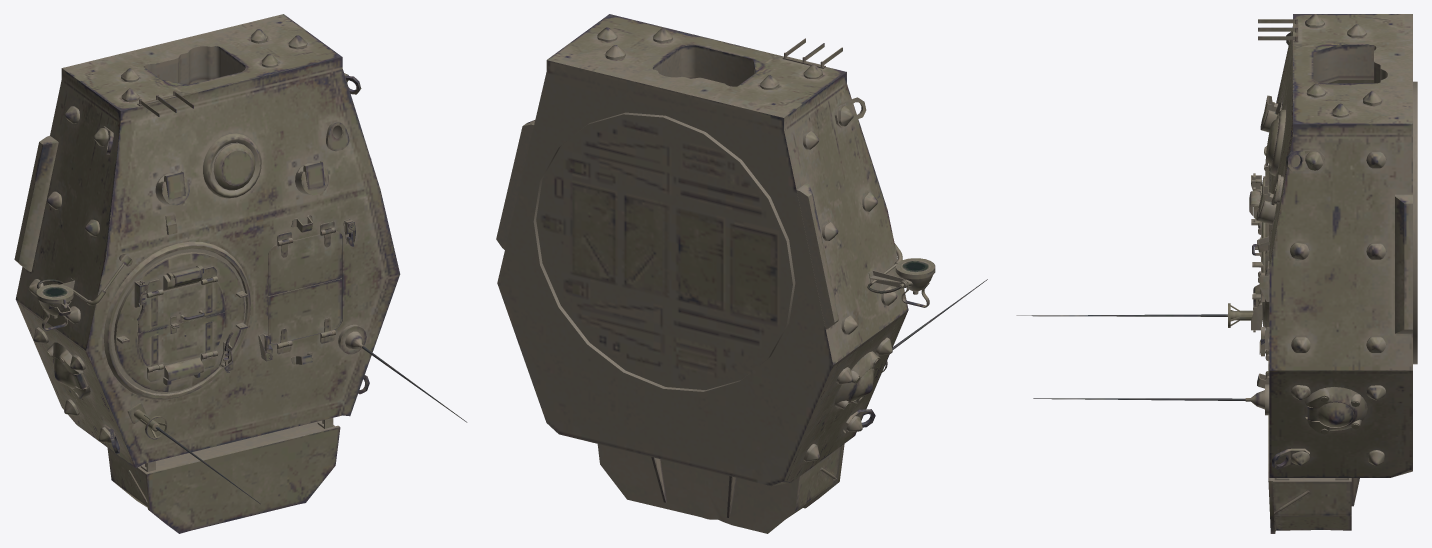
File: Turret_01.glb
3 renders of one model, left to right at view 1: azimuth 30°, elevation 25°; view 2: azimuth 150°, elevation 25°; view 3: azimuth 270°, elevation 25°, orthographic. The views are drawn at different scales.
Visible parts, largest first — view 1: set_0_group_0; view 2: set_0_group_0; view 3: set_0_group_0.
Part boxes in pixels (left/top/right/bottom): set_0_group_0: left=14, top=14, right=467, bottom=533; set_0_group_0: left=496, top=14, right=987, bottom=533; set_0_group_0: left=1016, top=14, right=1417, bottom=533.
Size of the model in its own units: 2.14 by 2.53 by 2.07.
1 material, 1 textured.
